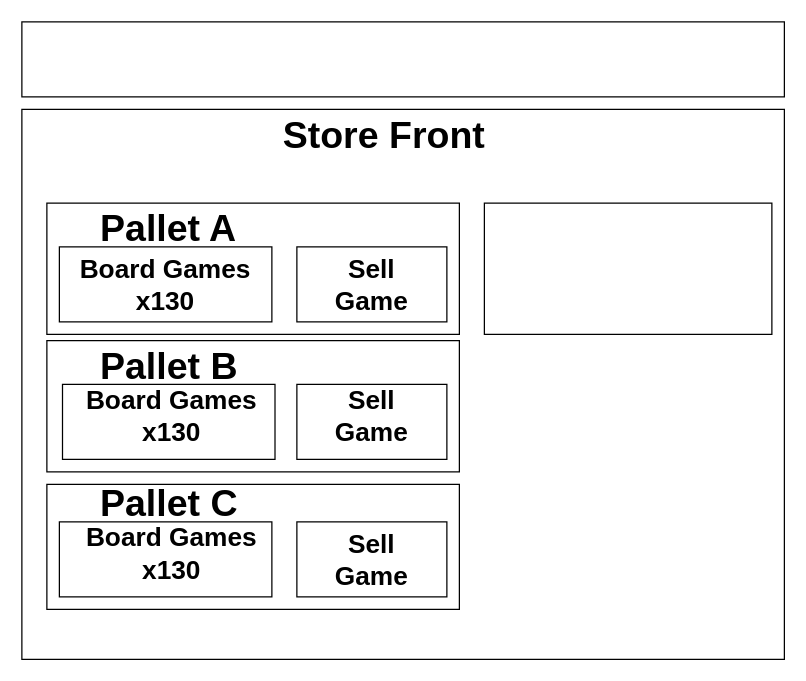
This 806x681 diagram has some shape labels left out. Here are the shapes that lost their labels. From the top down, the box of each, then its label:
(21, 21, 784, 97): Header / Home
(483, 202, 772, 334): Add Pallet Form
